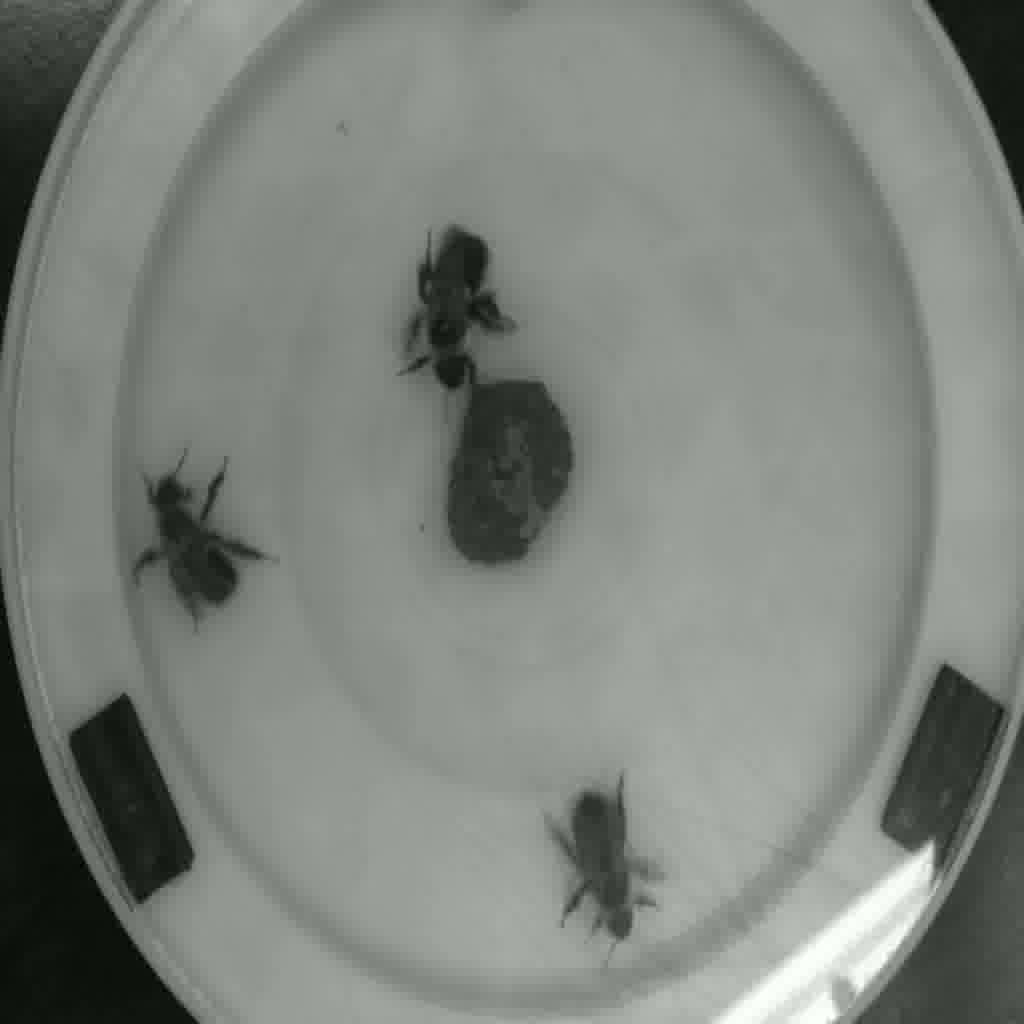bee: (111, 452, 269, 628), (406, 211, 514, 419), (555, 800, 667, 940)
